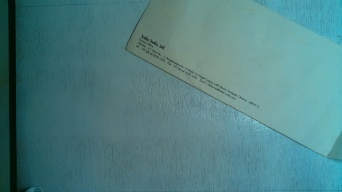l: (123, 1, 342, 162)
